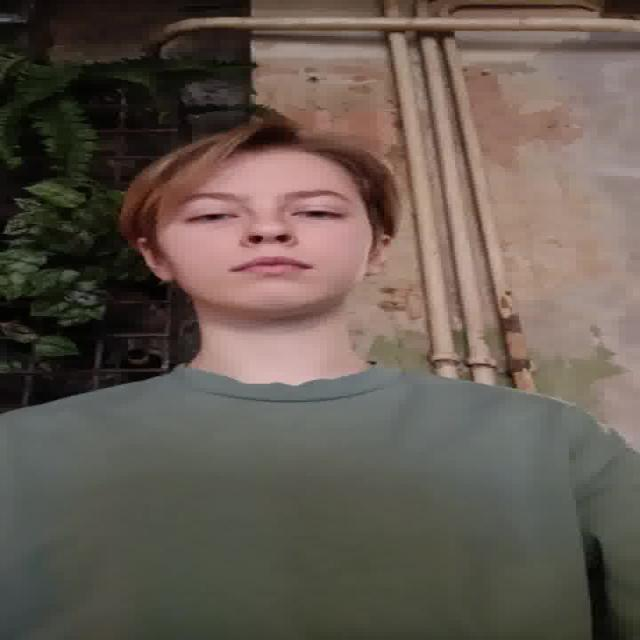earlobe: (155, 264, 175, 282), (362, 262, 382, 276)
eye: (180, 212, 242, 224), (294, 210, 345, 221)
nose: (244, 239, 296, 258)
wholeear: (136, 238, 176, 282), (363, 234, 392, 276)
